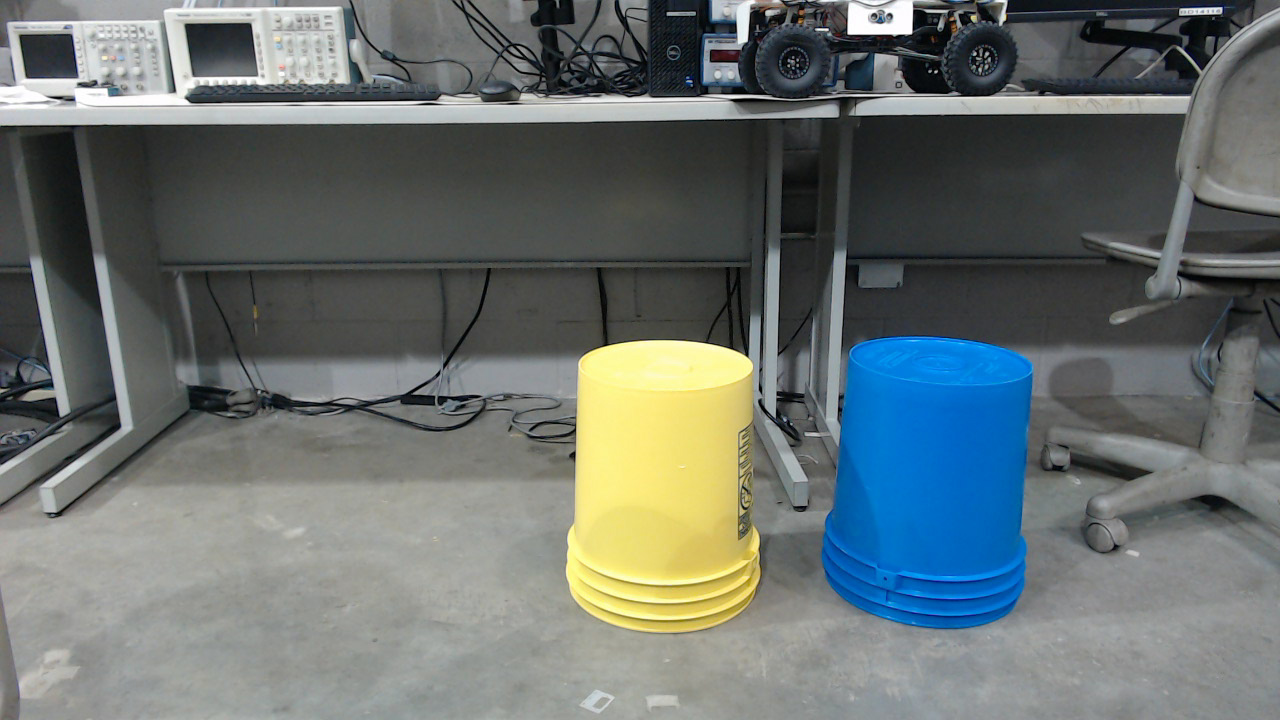blue_bucket: (825, 338, 1039, 637)
yellow_bucket: (568, 342, 771, 642)
